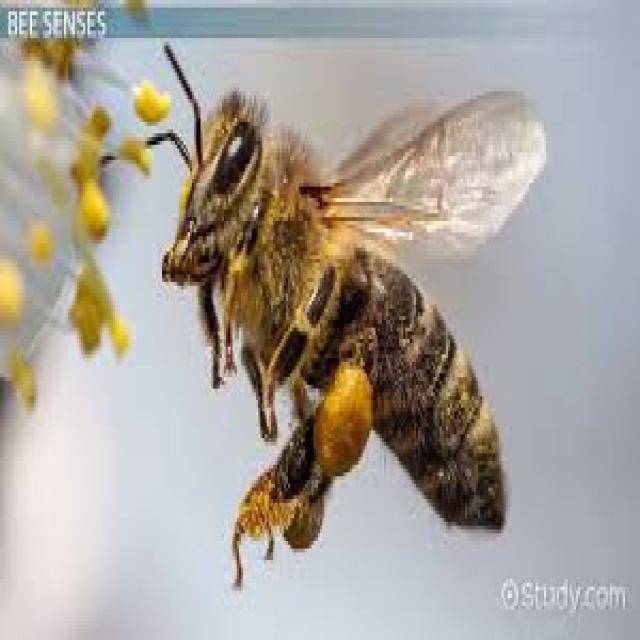Bees: (98, 44, 546, 588)
